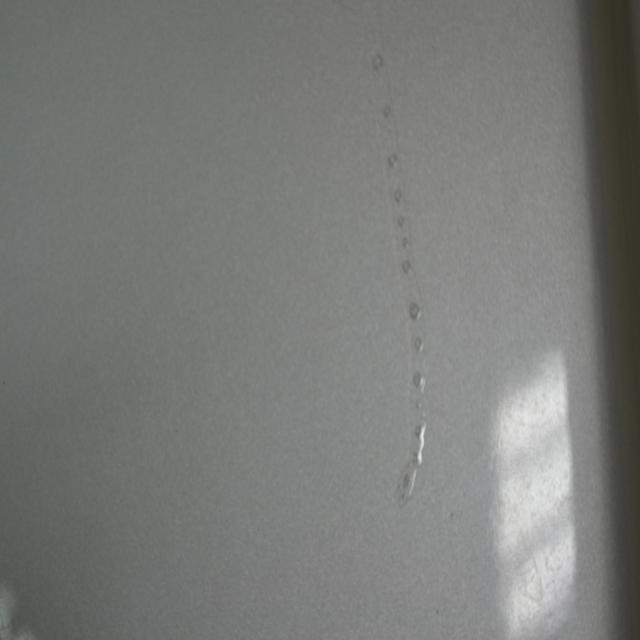runs: (362, 9, 428, 507)
